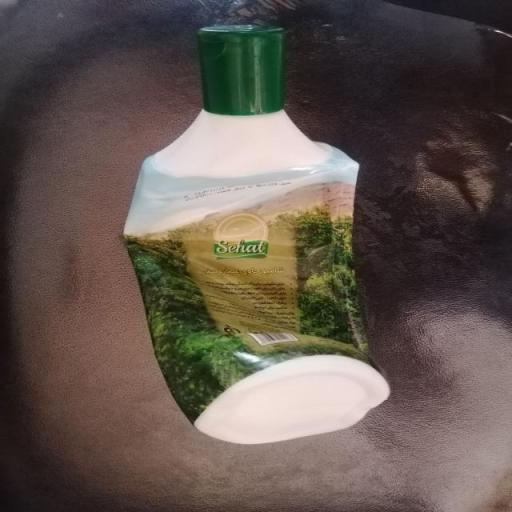plastic: (120, 19, 390, 444)
